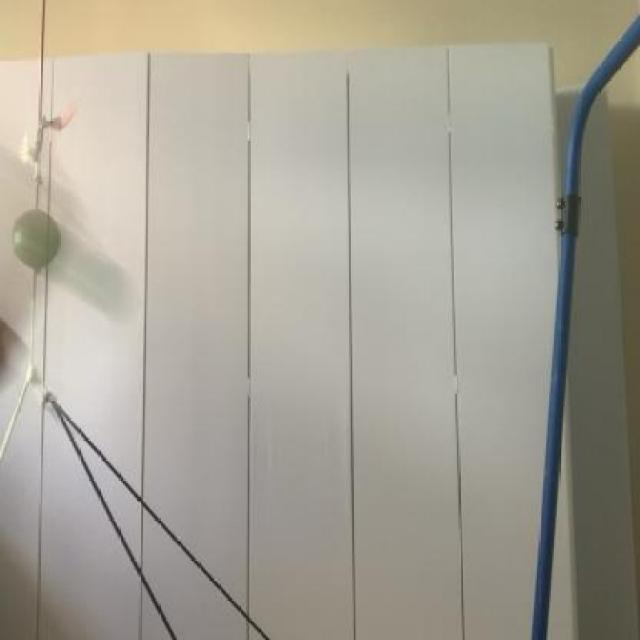baseball: (8, 198, 130, 327)
